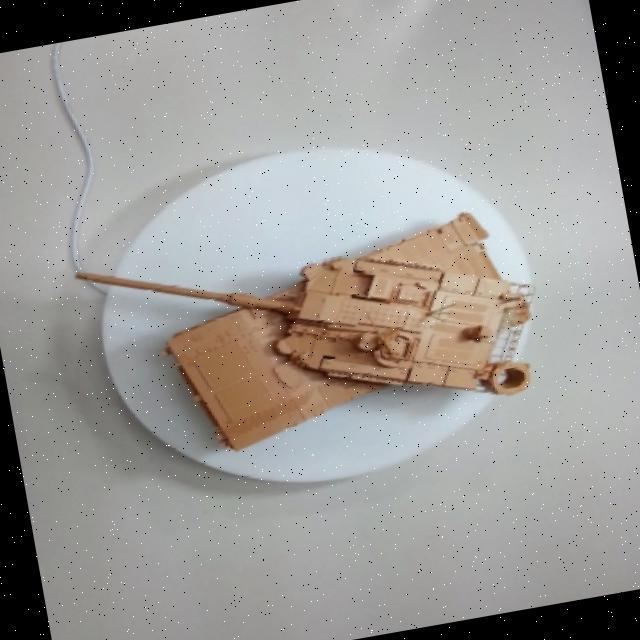korea tank: (46, 135, 592, 520)
